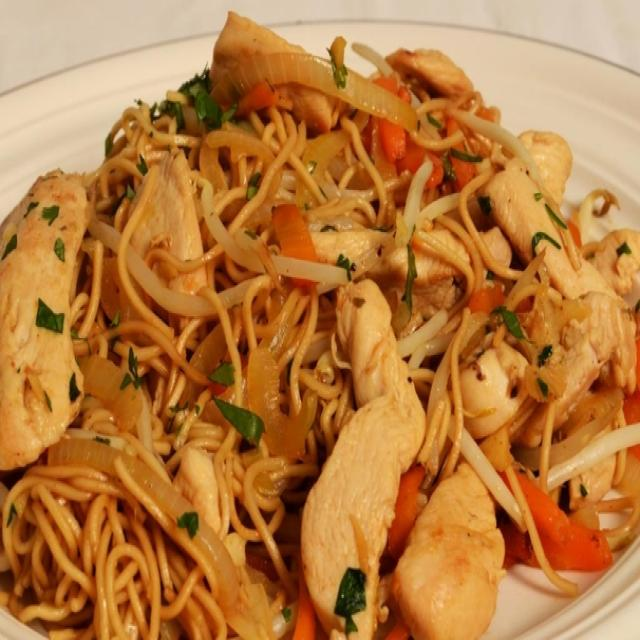面条主食: (7, 23, 634, 623)
